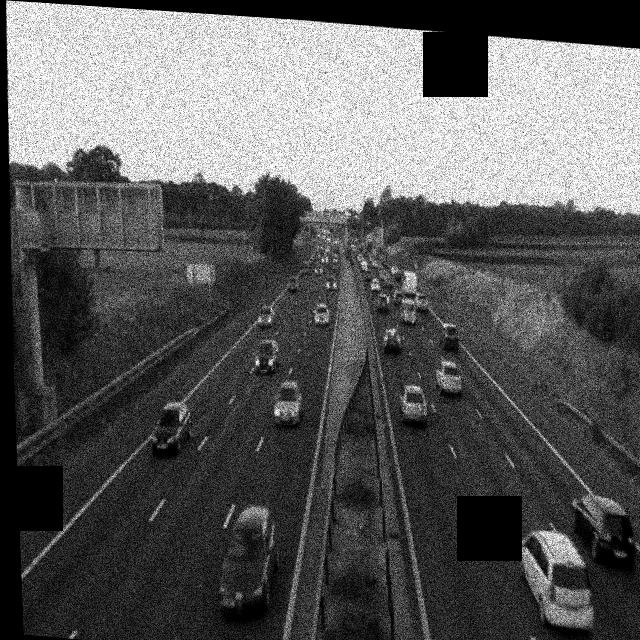car: (517, 528, 597, 632), (215, 503, 281, 620), (569, 493, 637, 566), (149, 397, 193, 457), (272, 377, 303, 427), (398, 383, 428, 425), (253, 335, 281, 375), (434, 360, 463, 396), (439, 321, 460, 350), (382, 326, 401, 354), (313, 302, 330, 327), (258, 305, 275, 328), (376, 292, 391, 313), (287, 277, 298, 294), (326, 273, 336, 290), (368, 277, 378, 292), (330, 258, 339, 273), (360, 258, 369, 273), (300, 262, 308, 275)
truck: (401, 269, 419, 302)
